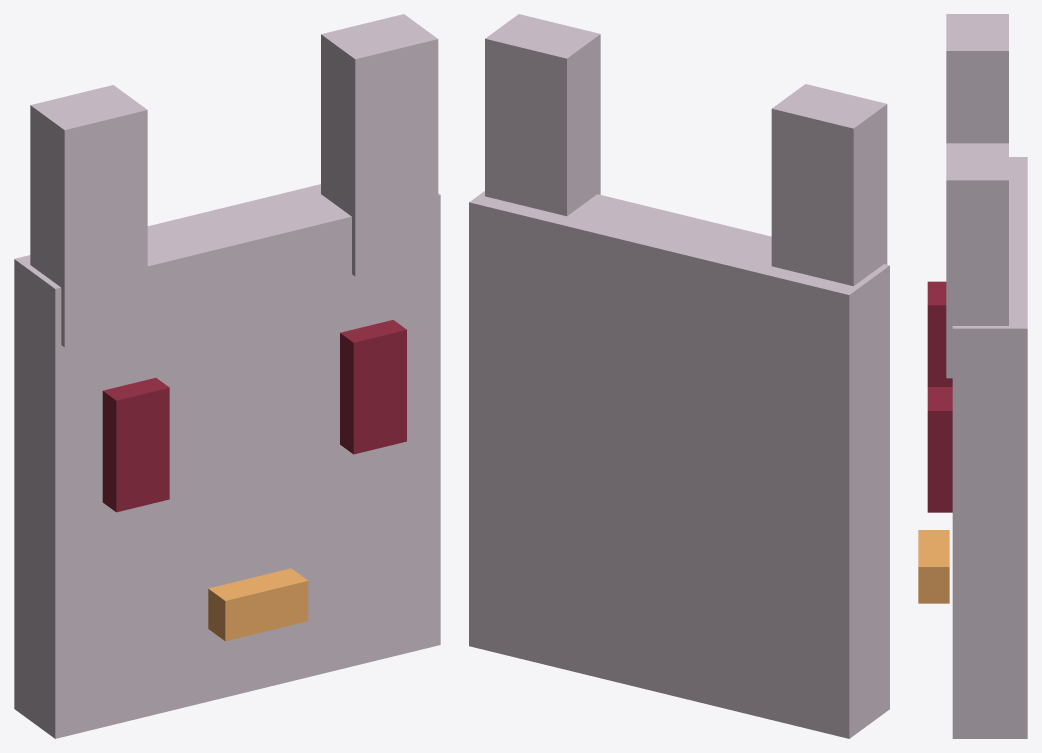
The model's file is KGB_MASK_Kitsune_CLOSED_DRAFT_v01.obj.
3 renders of one model, left to right at view 1: azimuth 30°, elevation 25°; view 2: azimuth 150°, elevation 25°; view 3: azimuth 270°, elevation 25°, orthographic. The views are drawn at different scales.
Bounding box in the file's own units: 1.3 × 1.97 × 0.35.
